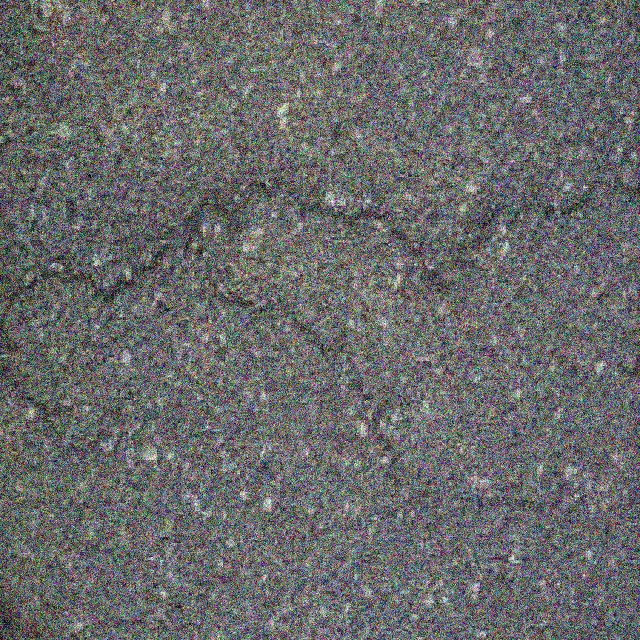SurfaceCrack: (0, 136, 640, 378)
